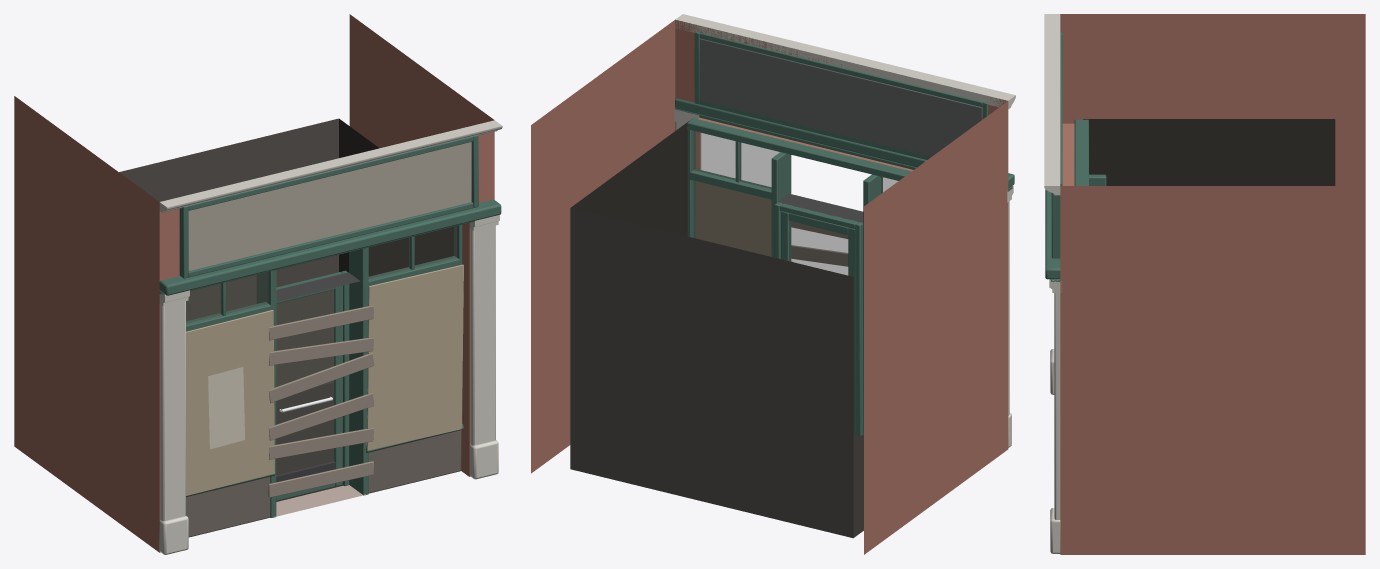
The model's file is boarded_4a.glb.
3 renders of one model, left to right at view 1: azimuth 30°, elevation 25°; view 2: azimuth 150°, elevation 25°; view 3: azimuth 270°, elevation 25°, orthographic. The views are drawn at different scales.
Visible parts, largest first — view 1: boarded_4a; view 2: boarded_4a; view 3: boarded_4a.
Boxes of the visible parts, left/top/right/bottom form: boarded_4a: left=14, top=14, right=502, bottom=554; boarded_4a: left=531, top=14, right=1015, bottom=554; boarded_4a: left=1044, top=14, right=1365, bottom=554.
Size of the model in its own units: 4 by 4 by 3.16.
